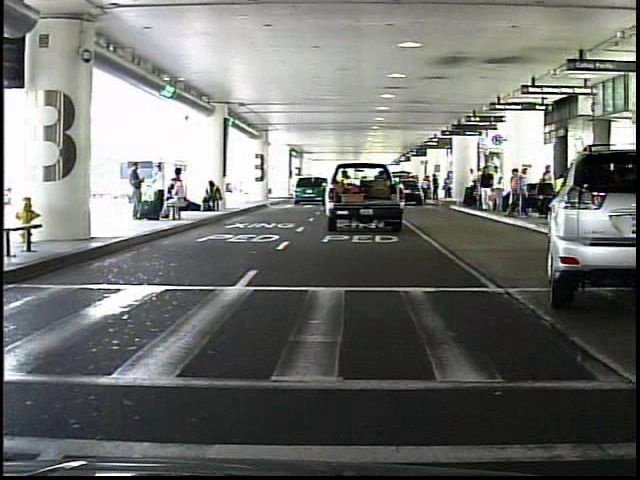person: (126, 160, 149, 225), (478, 166, 497, 218), (491, 165, 505, 217), (442, 172, 457, 205), (431, 171, 442, 203)
